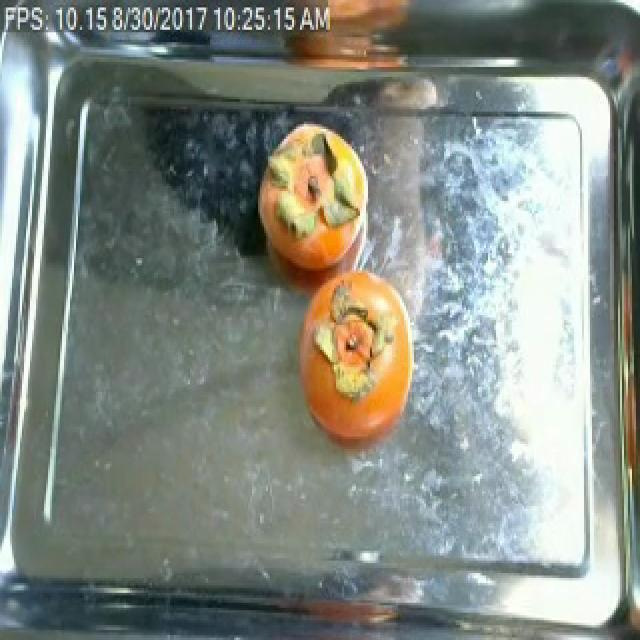Fruit: (242, 109, 380, 256)
